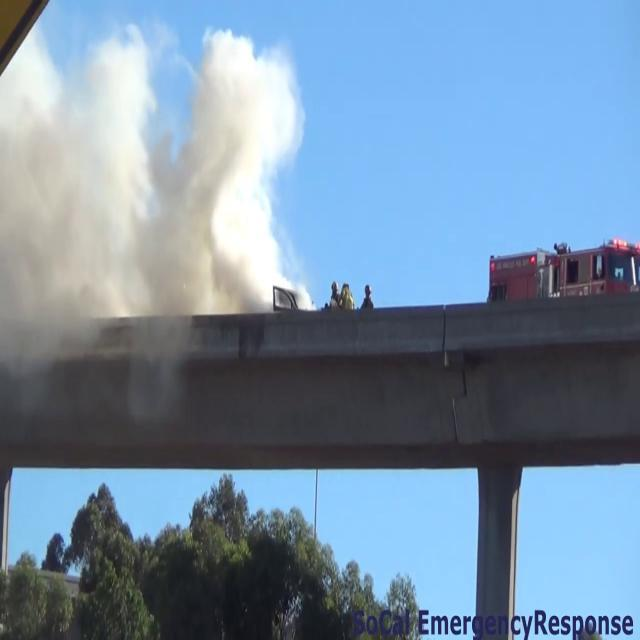Smoke: (0, 11, 312, 385)
